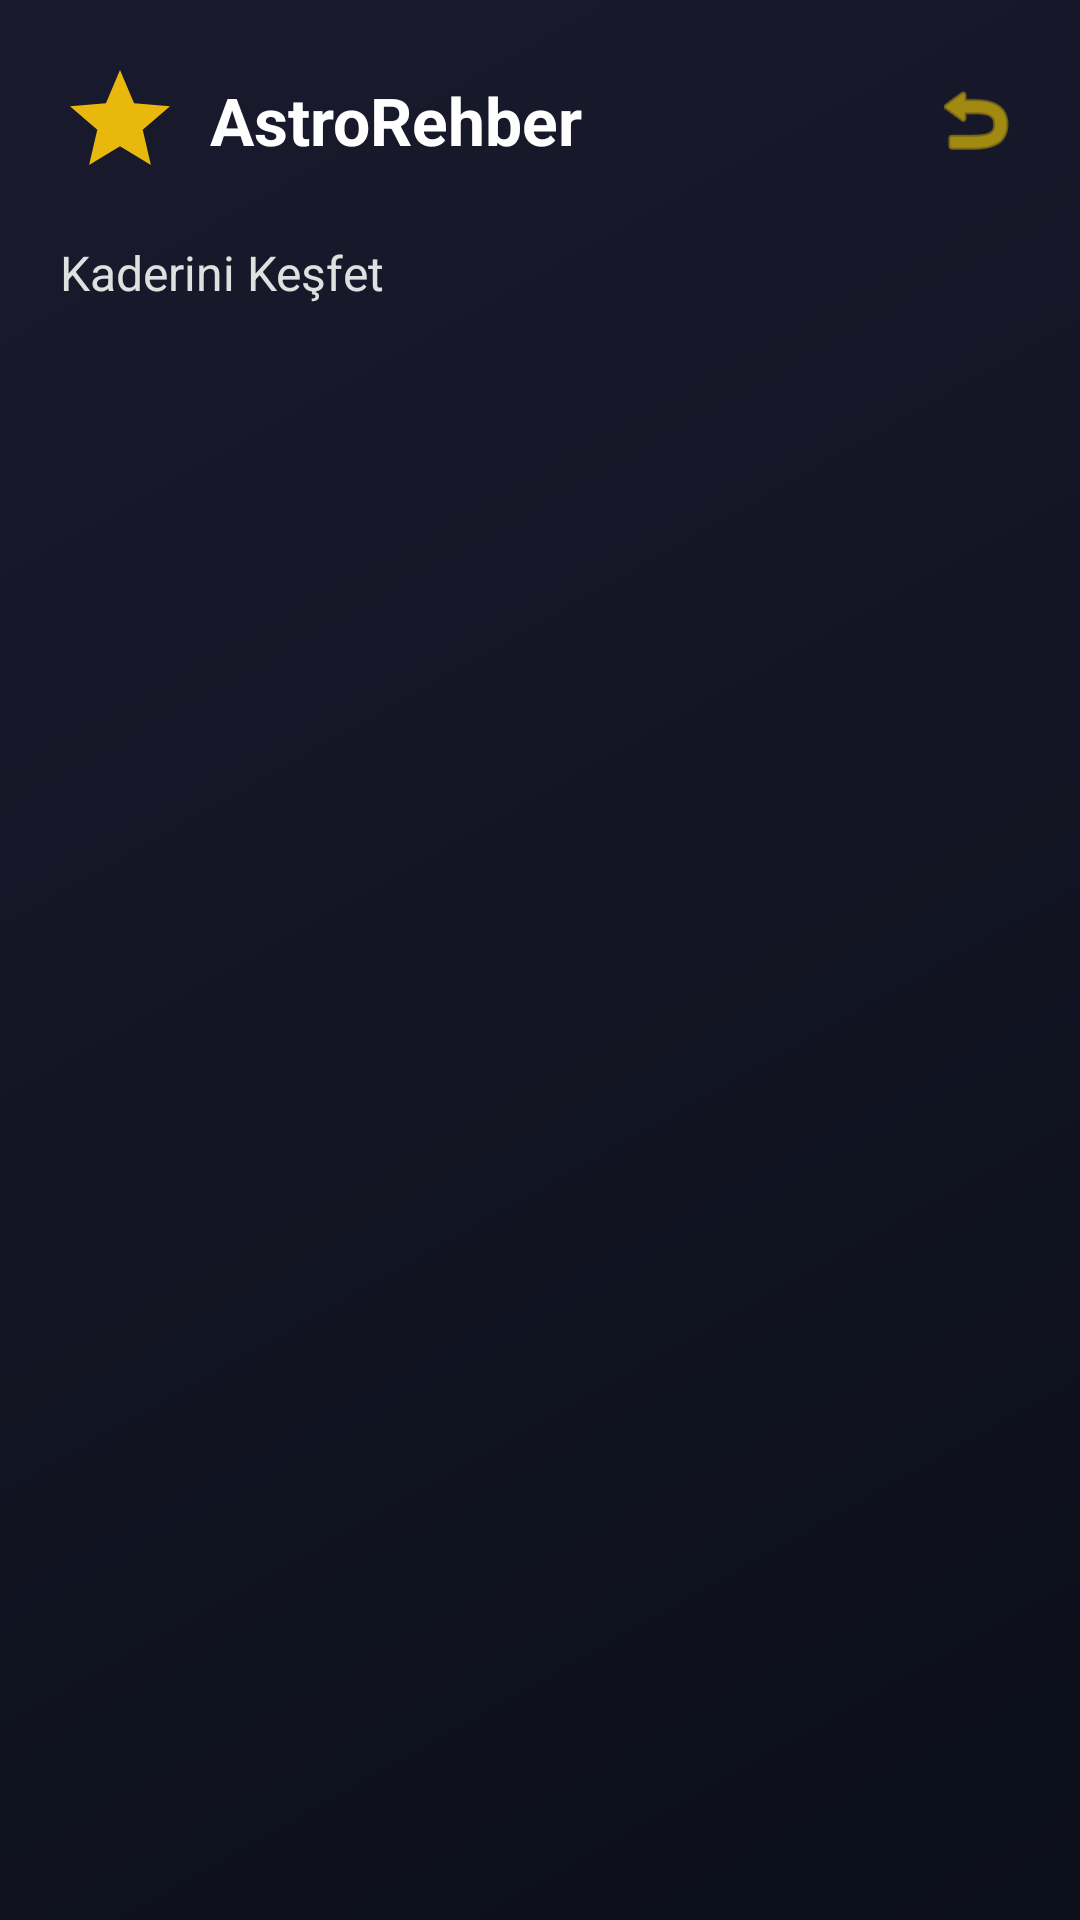

Icon bounding boxes for this 1080 × 1920 phone screenshot, format (x1, y1, x2, y2):
revert: (944, 91, 1009, 150)
star premium: (70, 70, 170, 165)
